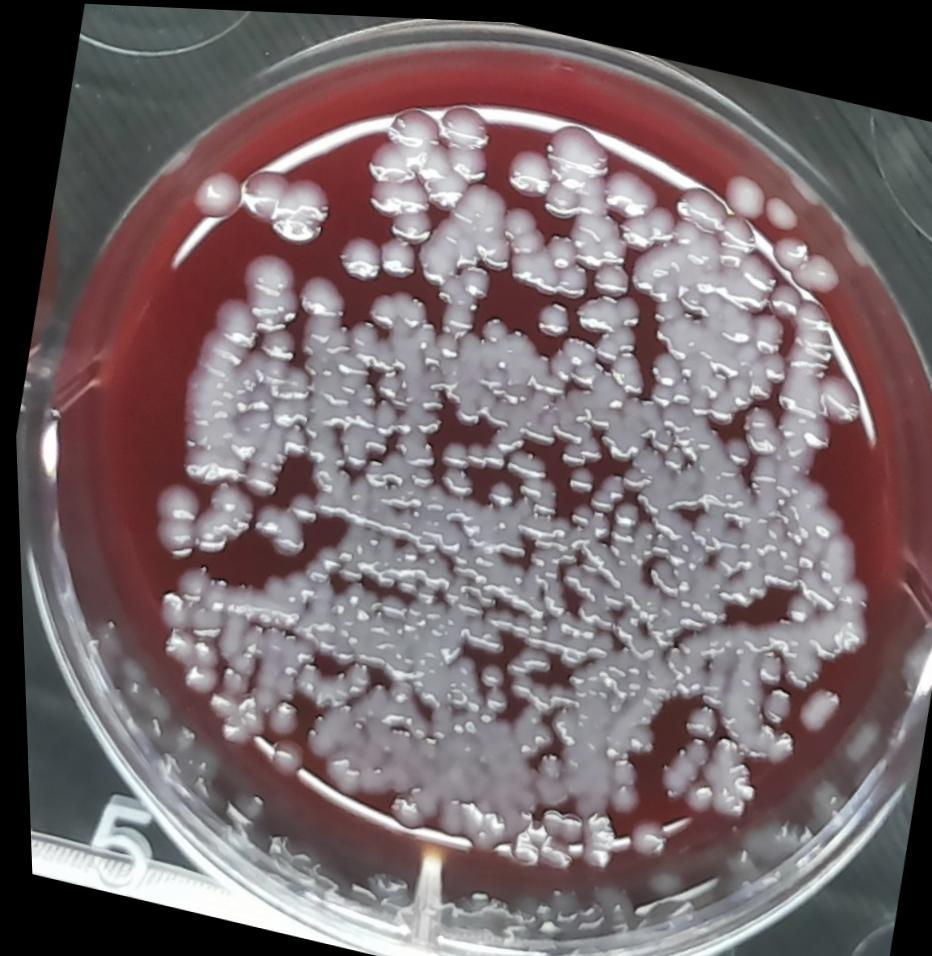smarcescens: (221, 152, 341, 260)
